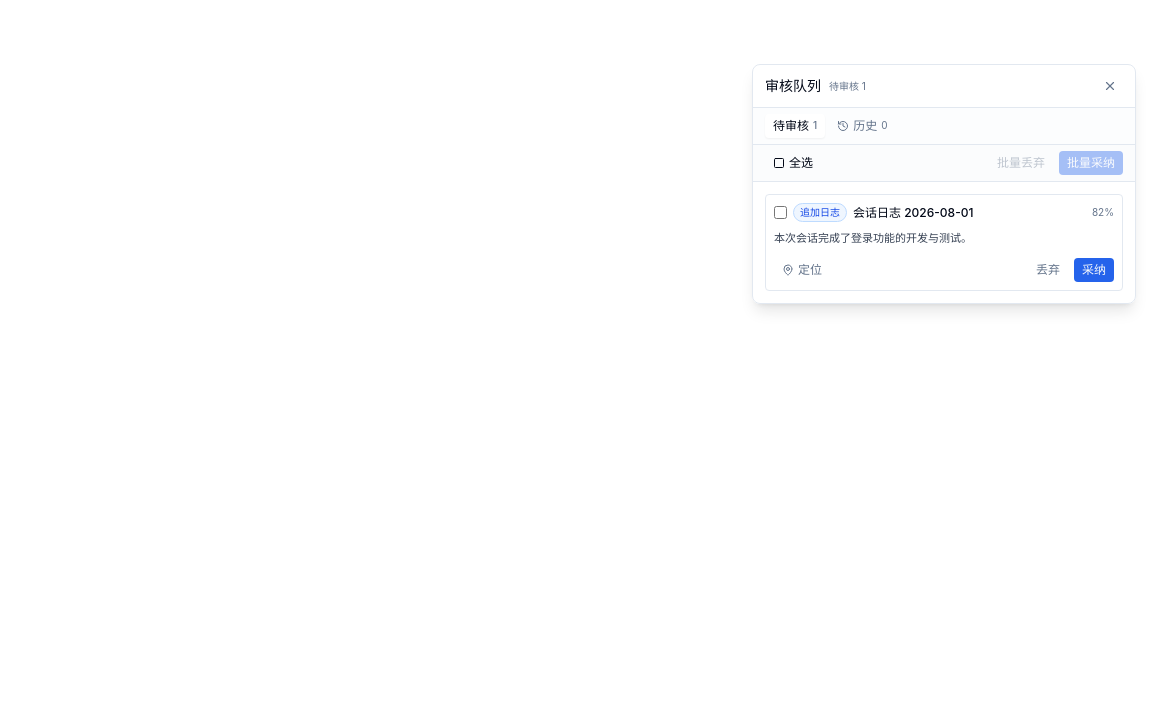
it: WritebackPanel — Tabs (Pending / History) › shows 历史 empty state when historyItems is empty
This screenshot has width=1152, height=720.
Click the tab with test id "tab-history". click: (862, 126)
box: left=829, top=114, right=896, bottom=138
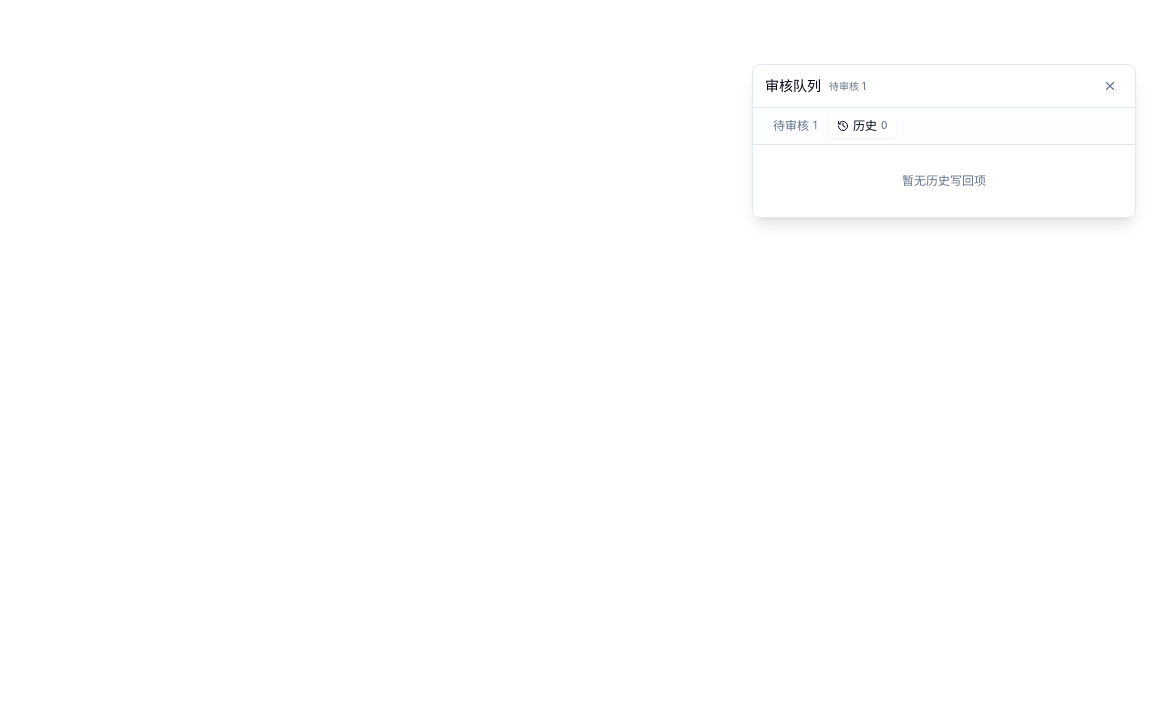
expect the text "暂无历史写回项" is shown: met, box left=902, top=173, right=986, bottom=188
